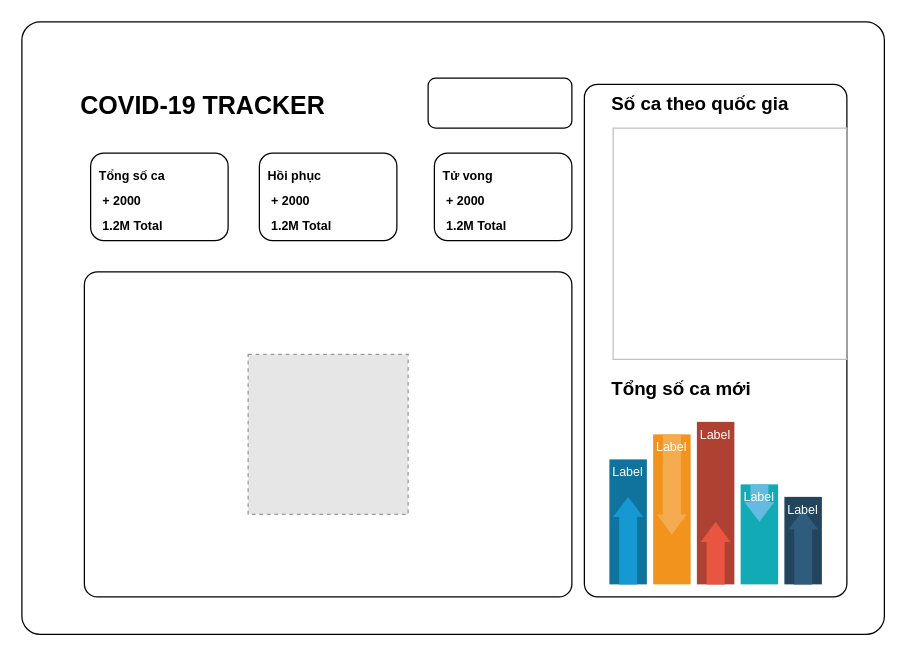
Image size: 906x656. Some labels were removed from this diagram. Grey dashed boxes stand in for pictures. Each missing label, with the box of its shape:
Toàn thế giới: (427, 77, 572, 128)
Value 1 Value 2 Value 3 Value 4 Value 5 Value 6 Value 7 Value 8 Value 9: (612, 127, 847, 359)
